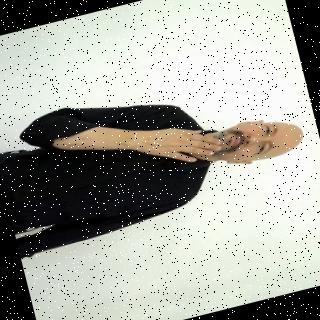ThankYou: (0, 51, 318, 259)
